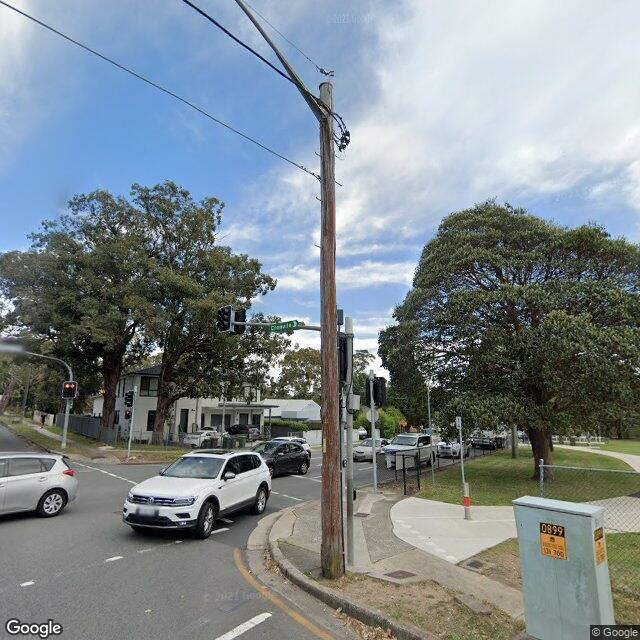steel-pole: (344, 319, 356, 566), (126, 384, 138, 460), (370, 370, 377, 492), (61, 376, 72, 450)
streetlight: (235, 1, 328, 126)
timber-pole: (319, 83, 346, 580)
traffic-light: (364, 376, 386, 410), (214, 306, 232, 334), (233, 307, 247, 335), (62, 380, 78, 399), (123, 388, 136, 409), (124, 410, 131, 420)
